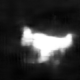plane: (19, 22, 77, 67)
